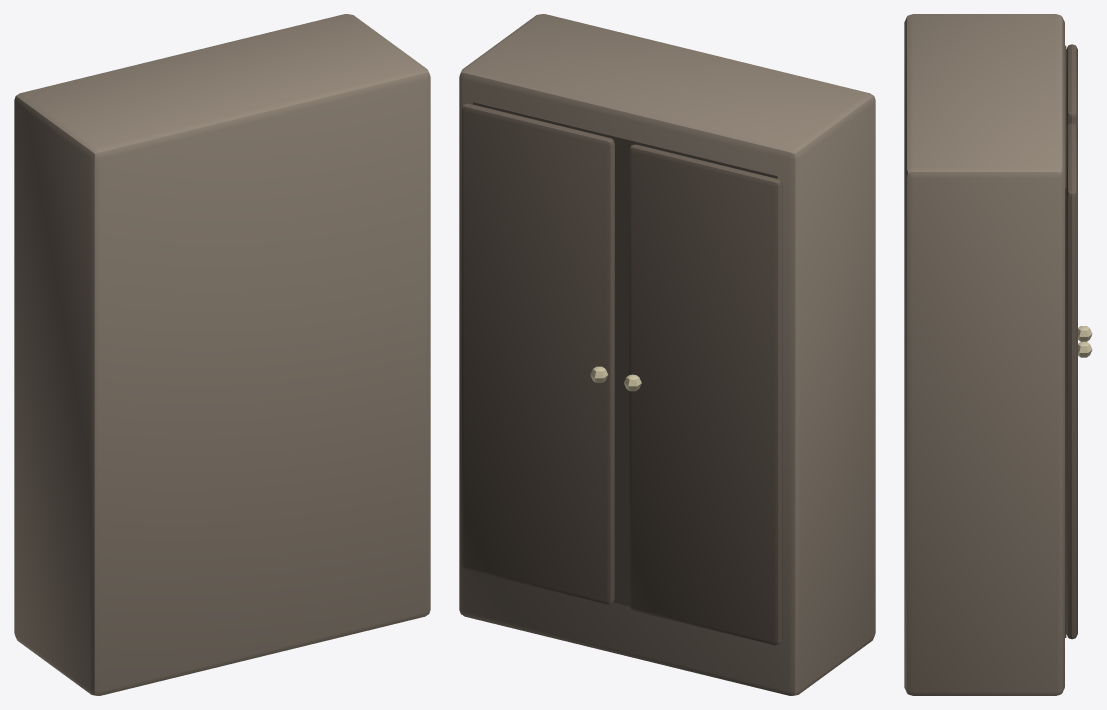
The model's file is cupboard.gltf.
3 renders of one model, left to right at view 1: azimuth 30°, elevation 25°; view 2: azimuth 150°, elevation 25°; view 3: azimuth 270°, elevation 25°, orthographic. The views are drawn at different scales.
Visible parts, largest first — view 1: Body; view 2: Body, DoorL, DoorR; view 3: Body, DoorR, DoorL.
Part boxes in pixels (<box>): Body: <box>14,14,430,695</box>; Body: <box>459,14,875,695</box>; DoorL: <box>624,144,782,645</box>; DoorR: <box>461,103,614,604</box>; Body: <box>904,14,1066,695</box>; DoorR: <box>1066,123,1092,639</box>; DoorL: <box>1066,44,1092,341</box>.
Size of the model in its own units: 1.3 by 2 by 0.645.
